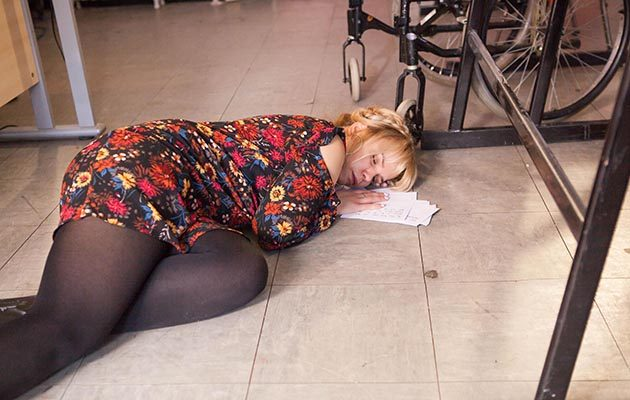collapsed: (4, 83, 461, 400)
